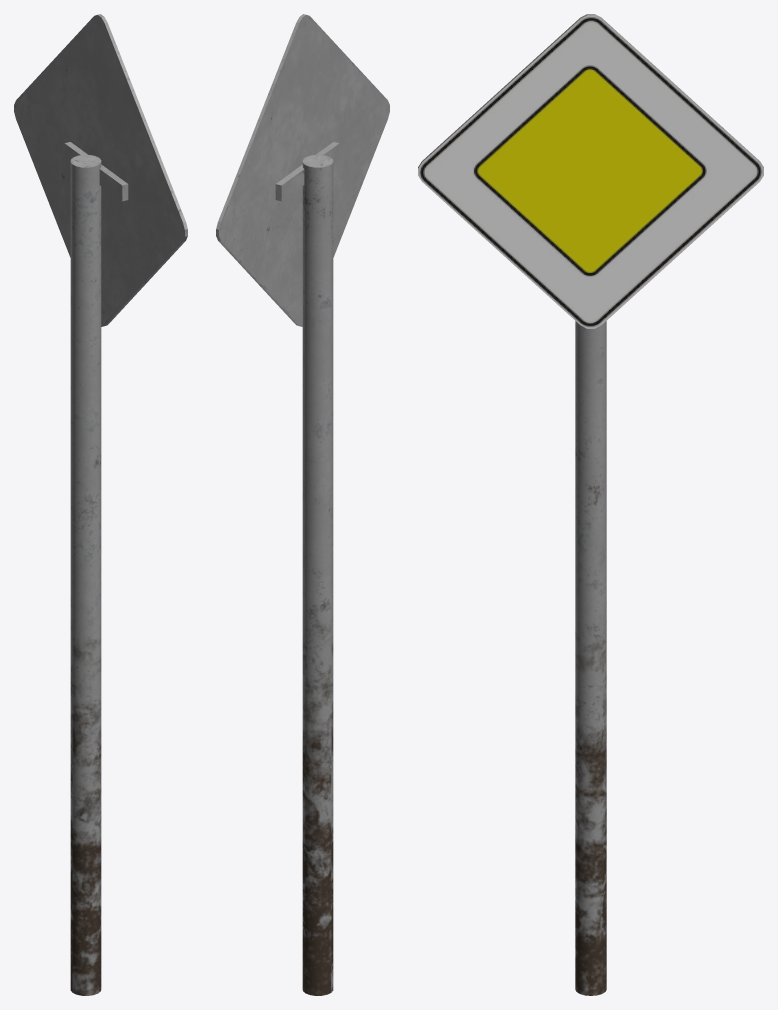
The model's file is prioritySign.fbx.
3 renders of one model, left to right at view 1: azimuth 30°, elevation 25°; view 2: azimuth 150°, elevation 25°; view 3: azimuth 270°, elevation 25°, orthographic.
Visible parts, largest first — view 1: signs; view 2: signs; view 3: signs.
Boxes of the visible parts, x1,y1,x2,y2 form: signs: [14, 14, 187, 995]; signs: [216, 14, 389, 995]; signs: [418, 14, 763, 995].
Bounding box in the file's own units: 7.58 × 234 × 74.75.
Materials: 1 (1 with a texture image).
